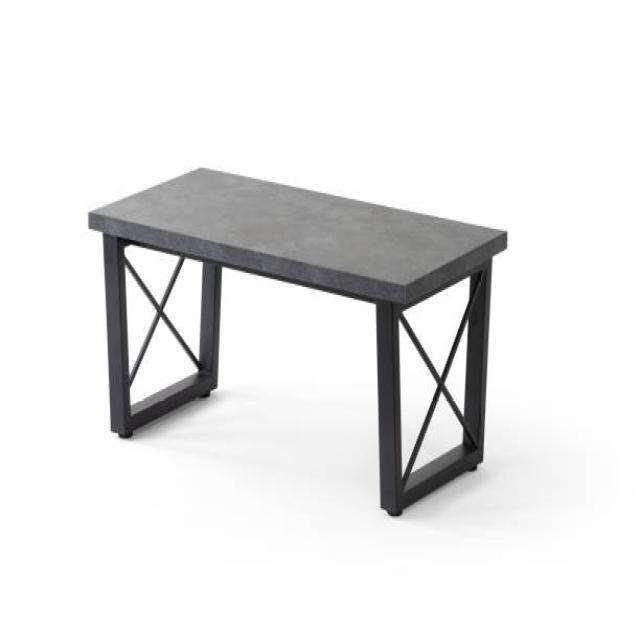table: (87, 163, 507, 516)
